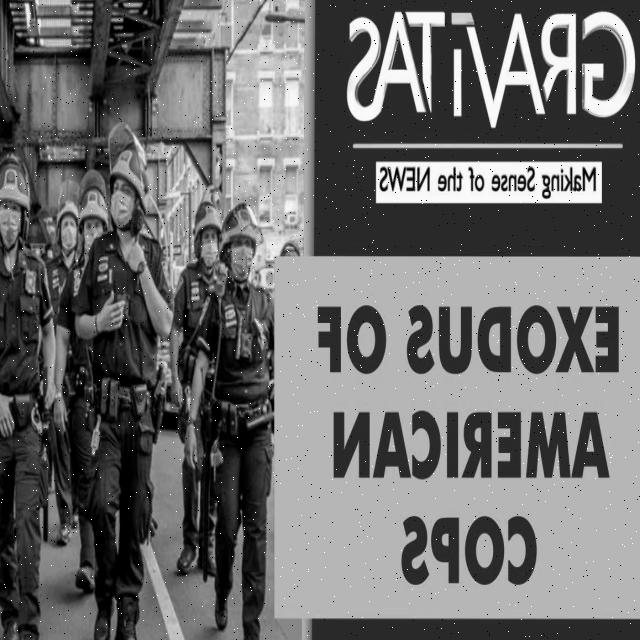police: (70, 129, 171, 640), (183, 190, 290, 640), (0, 111, 55, 640)
